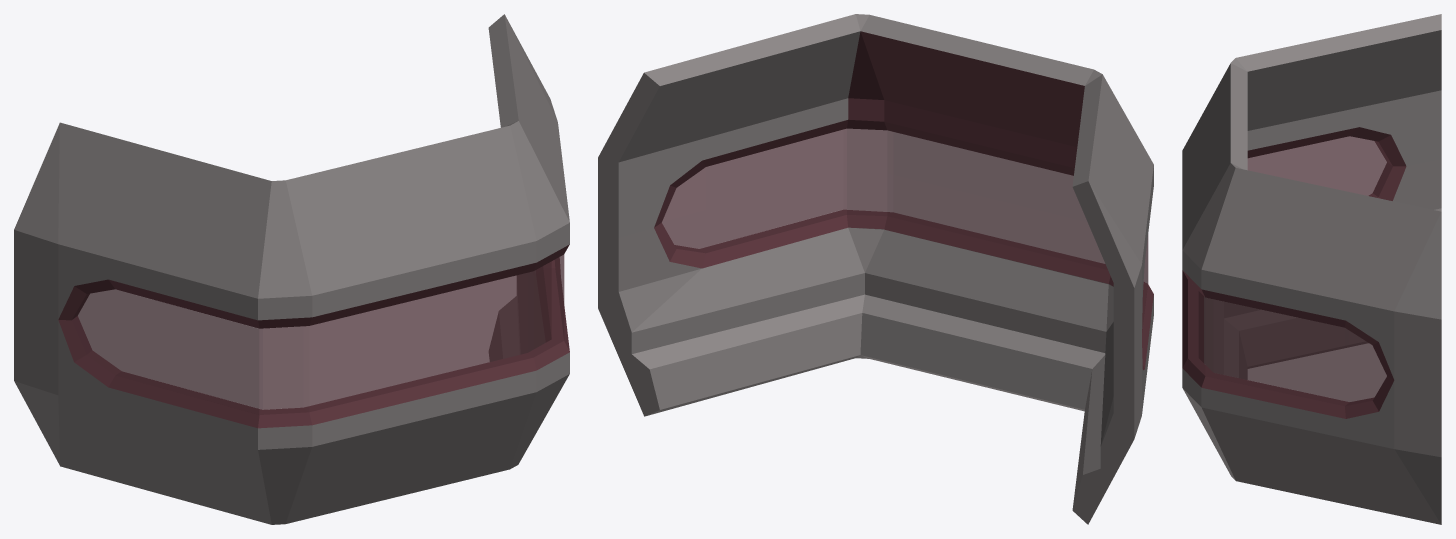
File: scifi-window-corridor-turn.fbx
3 renders of one model, left to right at view 1: azimuth 30°, elevation 25°; view 2: azimuth 150°, elevation 25°; view 3: azimuth 270°, elevation 25°, orthographic. The views are drawn at different scales.
Visible parts, largest first — view 1: scifi-window-corridor-turn; view 2: scifi-window-corridor-turn; view 3: scifi-window-corridor-turn.
Part boxes in pixels (left/top/right/bottom): scifi-window-corridor-turn: left=14, top=14, right=569, bottom=524; scifi-window-corridor-turn: left=598, top=14, right=1153, bottom=524; scifi-window-corridor-turn: left=1182, top=14, right=1441, bottom=524.
Size of the model in its own units: 5.2 by 3.19 by 2.39.
